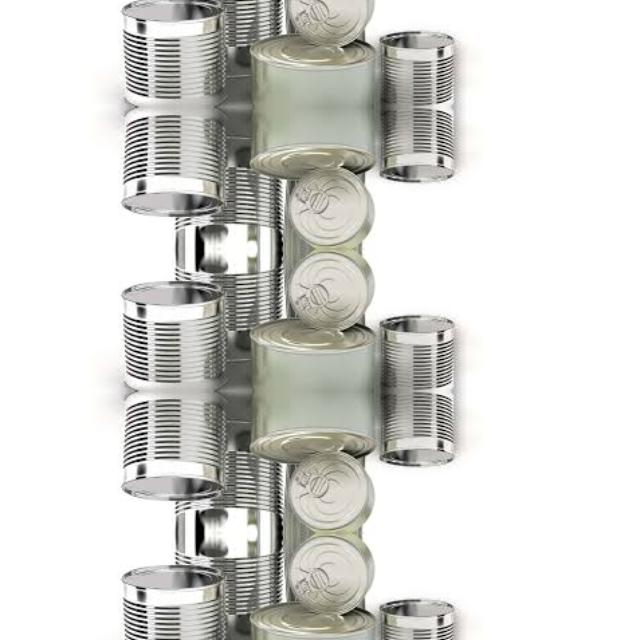Metal: (122, 106, 228, 217), (122, 391, 228, 502), (122, 280, 228, 390), (122, 0, 228, 105), (176, 248, 294, 332), (176, 532, 294, 616), (176, 165, 294, 248), (176, 450, 294, 532), (252, 316, 376, 390), (252, 106, 376, 180), (252, 390, 376, 464), (252, 32, 376, 106), (122, 563, 228, 640), (286, 248, 374, 332), (286, 532, 374, 616), (286, 165, 374, 248), (286, 450, 374, 532), (378, 312, 456, 390), (378, 106, 456, 184), (378, 390, 456, 468), (378, 28, 456, 106), (175, 0, 294, 46), (251, 601, 376, 640), (285, 0, 374, 46), (378, 596, 456, 640)
